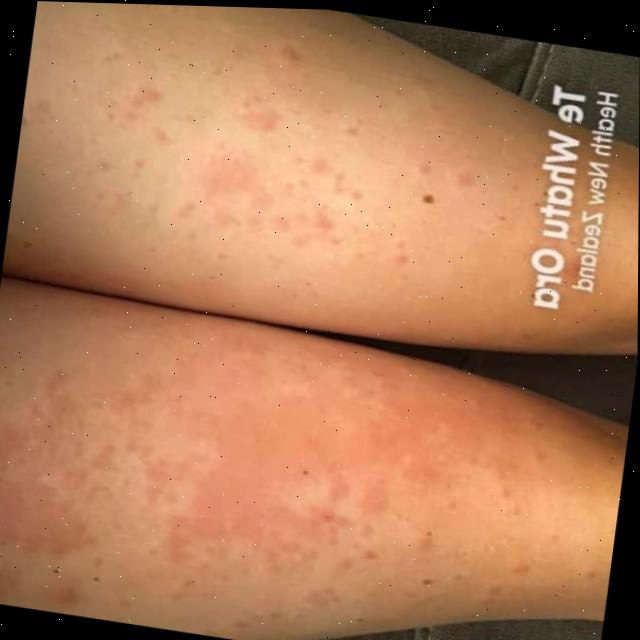Eczema: (0, 321, 445, 590), (73, 38, 447, 277)
